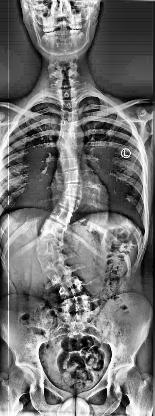Vertebrae: (44, 264, 78, 286), (37, 252, 75, 270), (55, 280, 87, 300), (60, 294, 94, 312), (33, 241, 71, 257), (40, 219, 68, 238), (45, 208, 73, 226), (56, 193, 80, 211), (60, 182, 86, 196), (56, 146, 84, 158), (56, 132, 80, 146), (60, 121, 82, 135), (62, 172, 86, 184), (61, 108, 79, 124), (60, 158, 80, 172), (60, 99, 78, 111), (58, 88, 76, 100)
